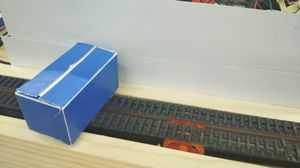box3: (14, 41, 118, 145)
